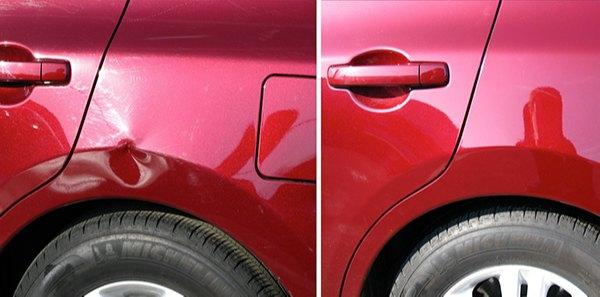dent: (42, 132, 182, 199)
